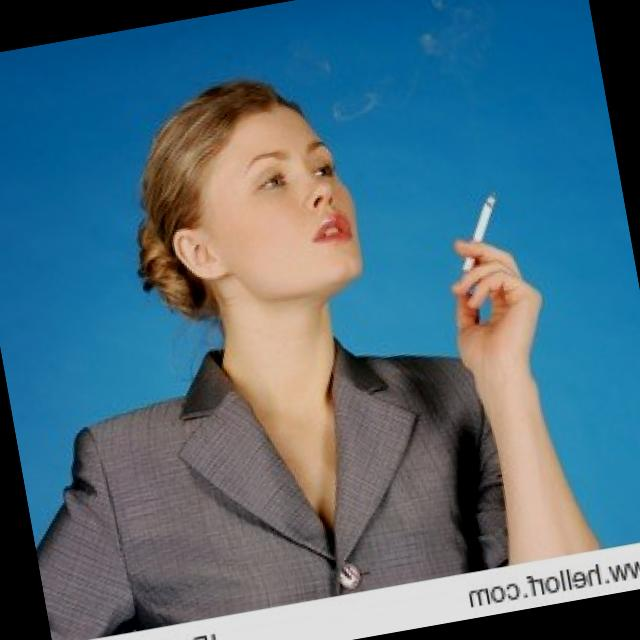cigarette: (442, 188, 518, 283)
